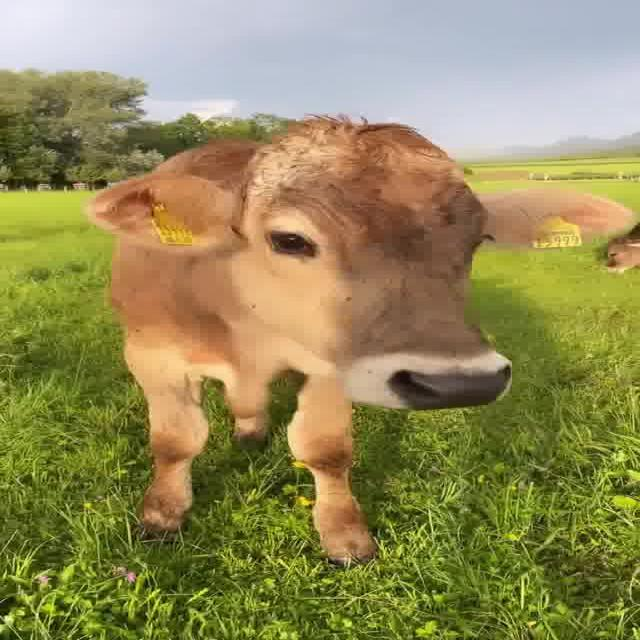cowFace: (94, 122, 622, 388)
